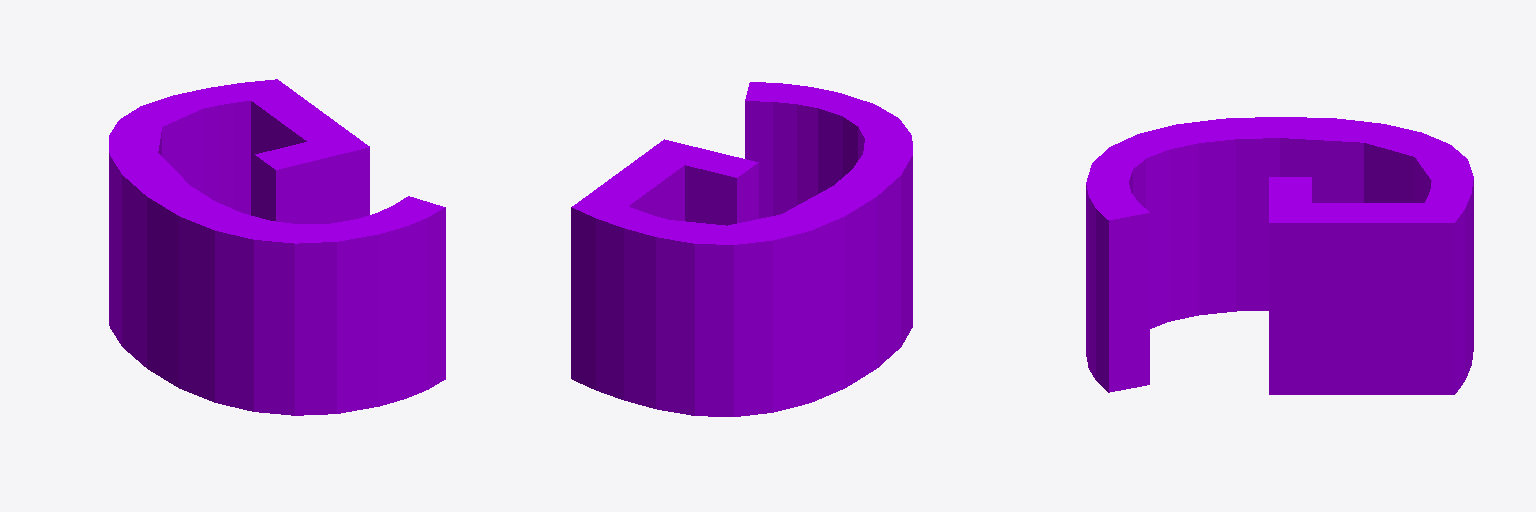
Rendered from Letter G1.obj.
3 views of the same model, side by side, from view 1: azimuth 30°, elevation 25°; view 2: azimuth 150°, elevation 25°; view 3: azimuth 270°, elevation 25° (orthographic).
Parts seen in each view (by area): view 1: obj_0; view 2: obj_0; view 3: obj_0.
Part boxes in pixels (bbox=[...]): obj_0: bbox=[109, 79, 445, 415]; obj_0: bbox=[571, 82, 912, 416]; obj_0: bbox=[1086, 117, 1473, 394].
Bounding box in the file's own units: 51.03 × 38.48 × 78.51.